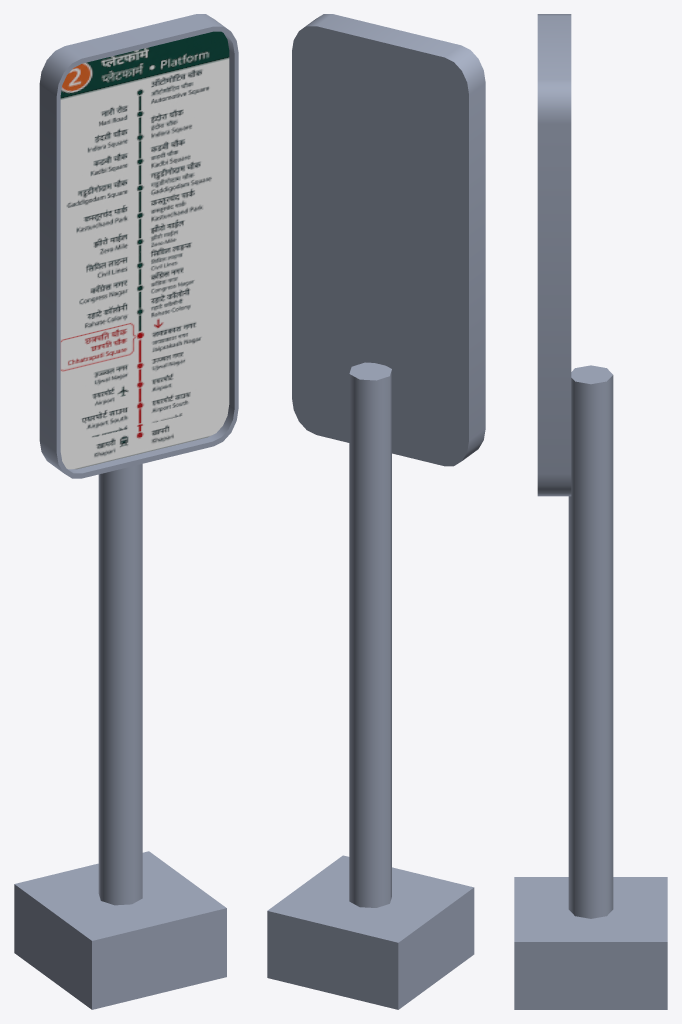
Rendered from Rule_BoardStand_001.fbx.
3 renders of one model, left to right at view 1: azimuth 30°, elevation 25°; view 2: azimuth 150°, elevation 25°; view 3: azimuth 270°, elevation 25°, orthographic. The views are drawn at different scales.
Parts seen in each view (by area): view 1: Rule BoardStand.001; view 2: Rule BoardStand.001; view 3: Rule BoardStand.001.
Part boxes in pixels (x1,y1,x2,y2): Rule BoardStand.001: (14, 14, 238, 1009); Rule BoardStand.001: (267, 14, 485, 1009); Rule BoardStand.001: (514, 14, 667, 1009).
Size of the model in its own units: 0.5553 by 2.75 by 0.4109.
